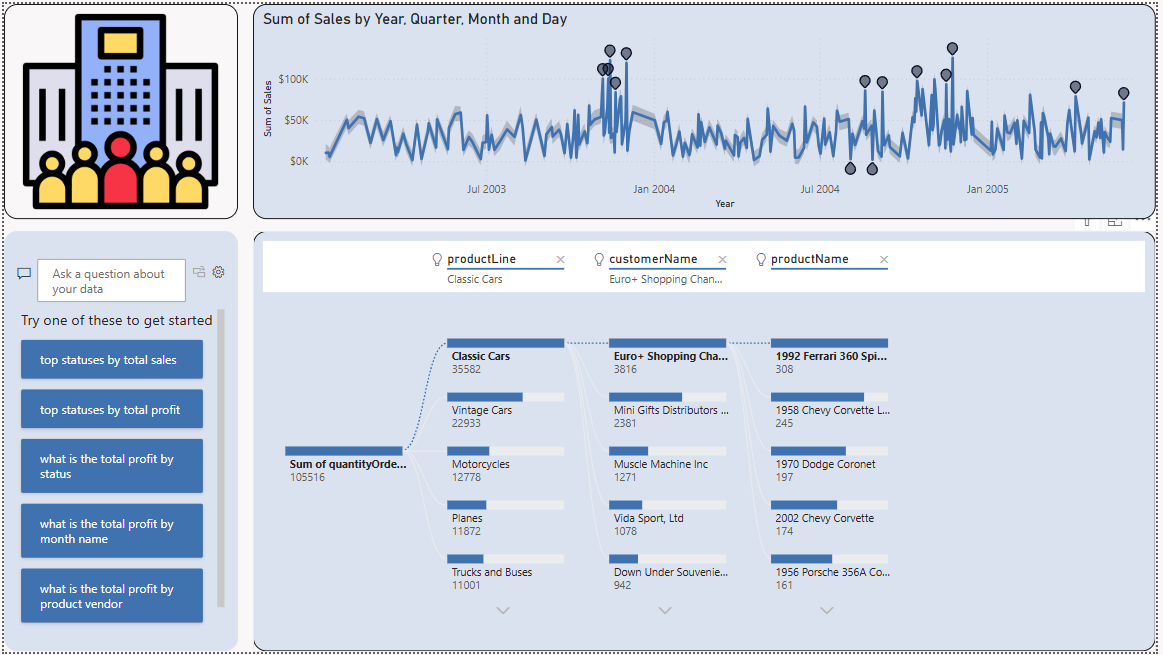

This screenshot's page, from the dashboard's own definition file:
{"tool":"powerbi","page":{"name":"Organization Dashboard","canvas":[1280,720],"ordinal":3},"visuals":[{"type":"image","box":[0,0,259.6,238.8],"z":0},{"type":"decompositionTreeVisual","fields":{"Analyze":["Sum(OrderDetails.quantityOrdered)"],"ExplainBy":["ProductLines.productLine","Customers.customerName","Products.productName"]},"box":[276.9,252.7,1002.7,467.3],"z":1000},{"type":"lineChart","fields":{"Y":["Sum(OrderDetails.Sales)"],"Category":["Orders.orderDate.Variation.Date Hierarchy.Year","Orders.orderDate.Variation.Date Hierarchy.Quarter","Orders.orderDate.Variation.Date Hierarchy.Month","Orders.orderDate.Variation.Date Hierarchy.Day"]},"box":[276.9,0,1002.7,238.8],"z":2000},{"type":"qnaVisual","box":[0,252.7,259.6,467.3],"z":3000}]}

Visuals, with their boxes on the page's 1280x720 design canvas (x1, y1, x2, y2). These are canvas units, not pixel positions in the 1163x655 screenshot, which may show the page scaled, cropped or inside an application window:
image: [0, 0, 260, 239]
decompositionTreeVisual - Sum(OrderDetails.quantityOrdered) x ProductLines.productLine: [277, 253, 1280, 720]
lineChart - Sum(OrderDetails.Sales) x Orders.orderDate.Variation.Date Hierarchy.Year: [277, 0, 1280, 239]
qnaVisual: [0, 253, 260, 720]
